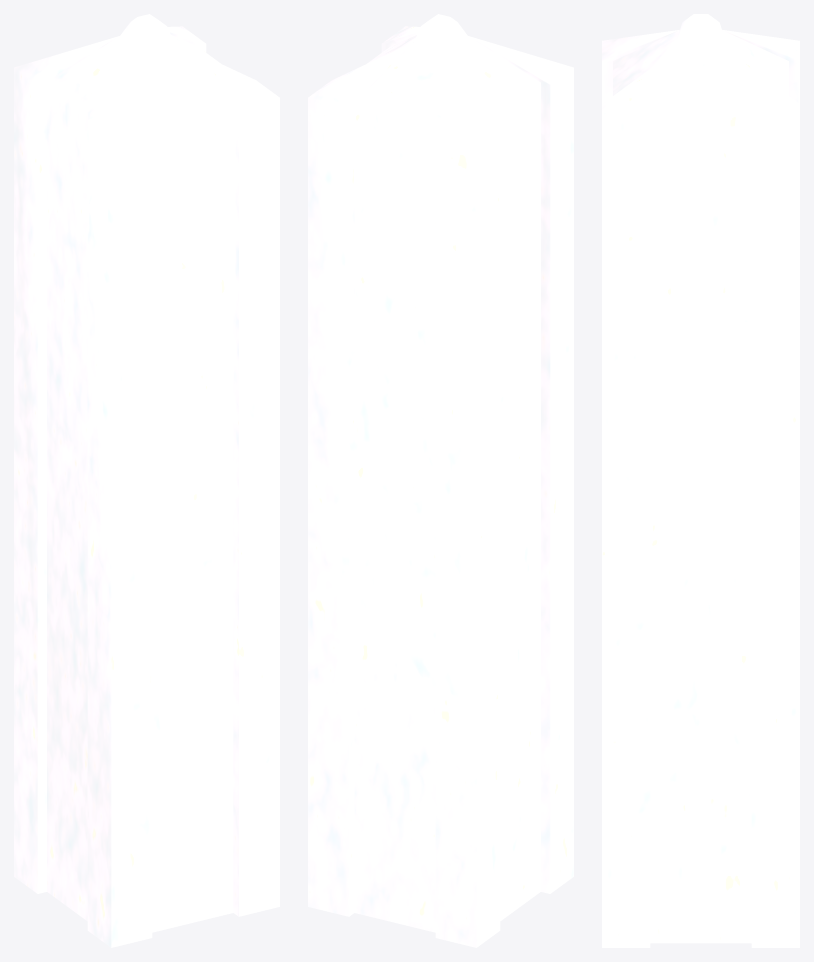
The model's file is CA_006_iron_pillar_var7.glb.
3 renders of one model, left to right at view 1: azimuth 30°, elevation 25°; view 2: azimuth 150°, elevation 25°; view 3: azimuth 270°, elevation 25°, orthographic.
Visible parts, largest first — view 1: pillar; view 2: pillar; view 3: pillar.
Part boxes in pixels (x1,y1,x2,y2): pillar: (14, 14, 279, 947); pillar: (308, 14, 573, 947); pillar: (602, 14, 799, 947).
Size of the model in its own units: 0.75 by 3.72 by 0.75.
1 material, 1 textured.
